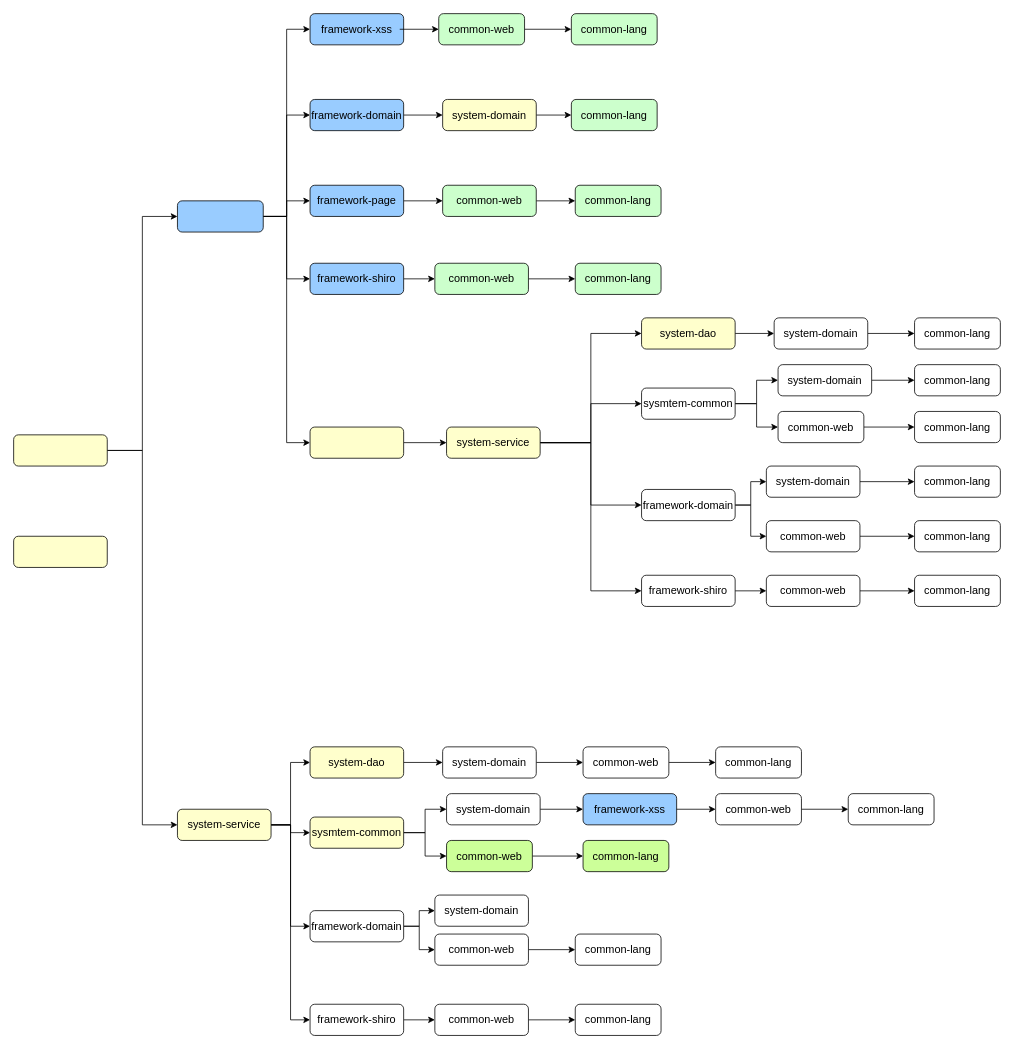
Some shapes in this 1014 by 1049 pixel diagram are drawn without their labels. Each missing label, with the box of its shape:
framework-core: (177, 200, 263, 232)
system-framework: (309, 426, 404, 458)
system-web: (13, 434, 107, 466)
system-web-ui: (13, 535, 107, 567)
